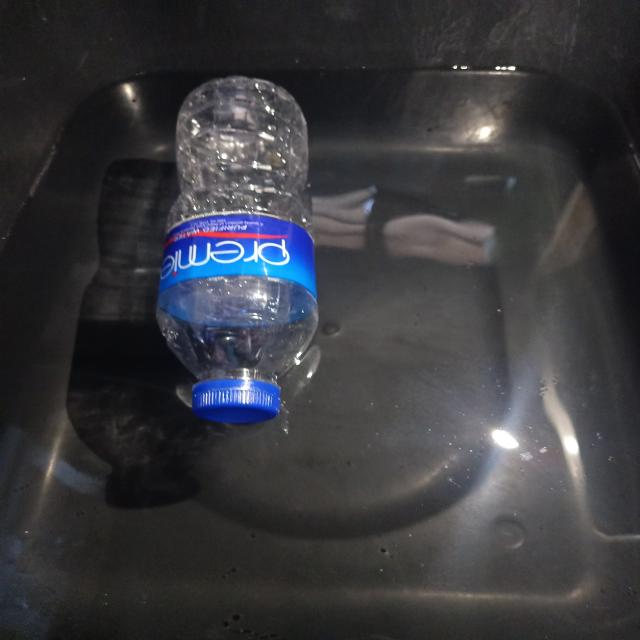Plastic Bottle: (157, 76, 318, 422)
